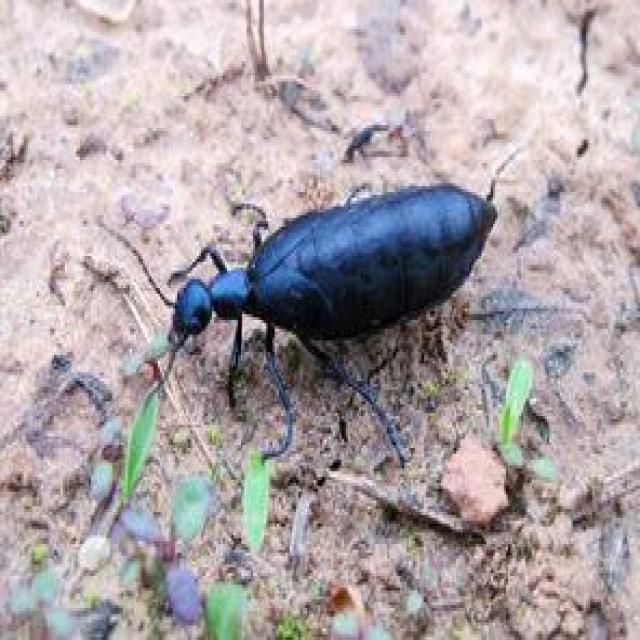BlisterBeetle-Adult-: (137, 160, 499, 429)
